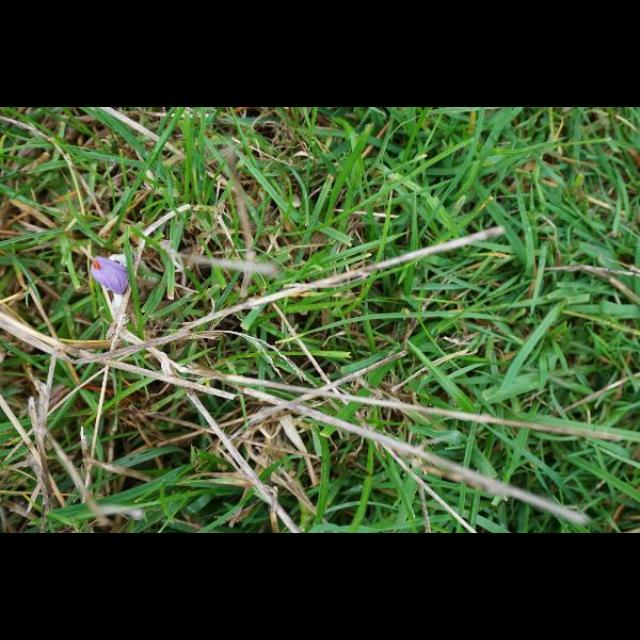flower: (90, 255, 128, 295)
